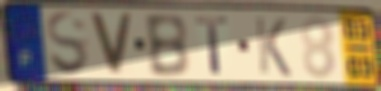8: (300, 13, 338, 82)
B: (141, 12, 192, 80)
K: (253, 15, 294, 79)
S: (45, 9, 92, 79)
T: (193, 15, 232, 77)
V: (87, 11, 135, 79)
